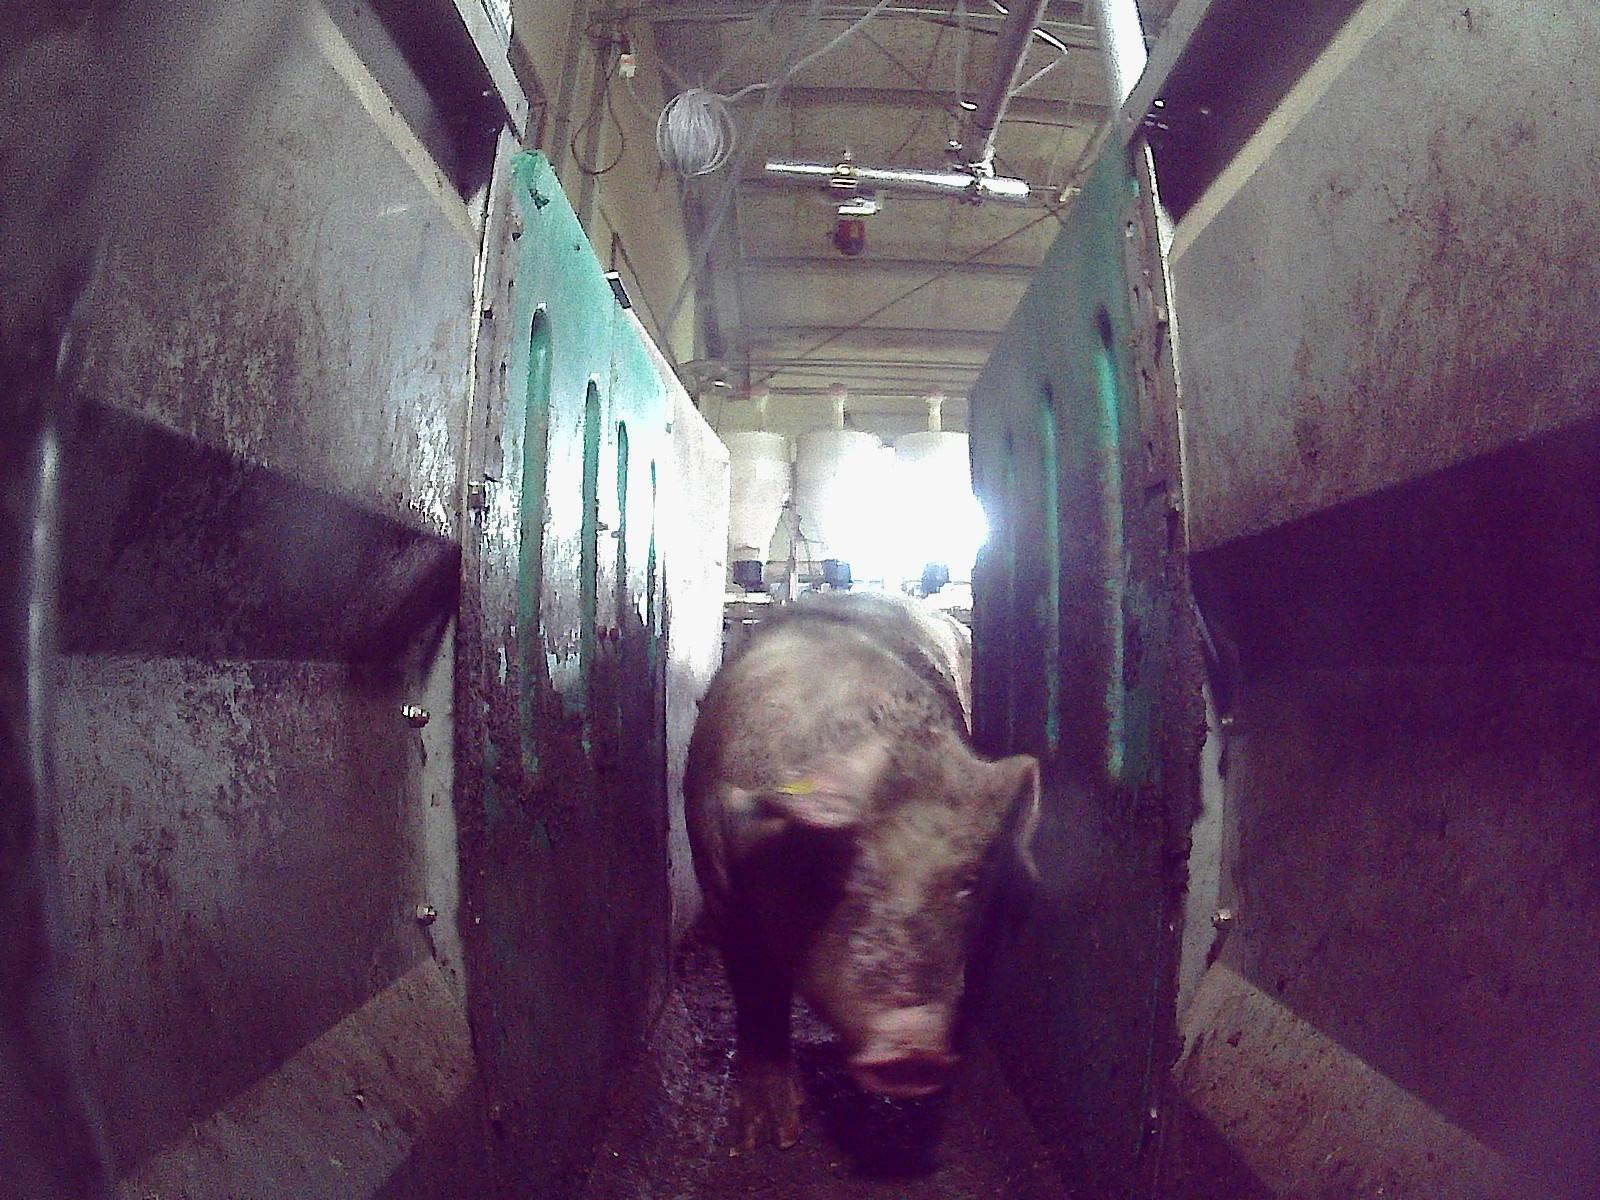Face: (763, 746, 988, 1098)
